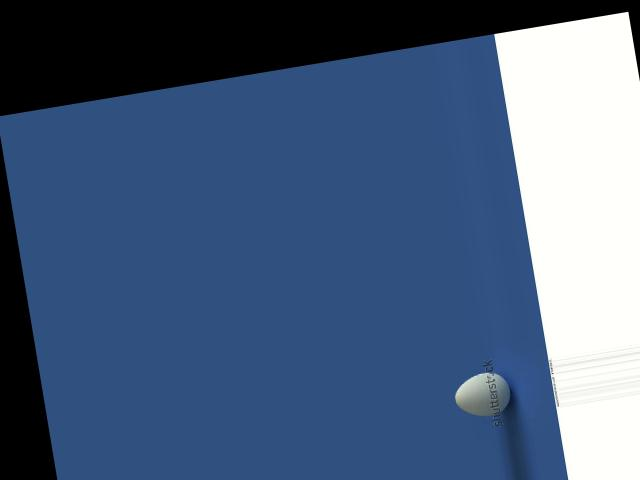egg: (451, 368, 513, 420)
